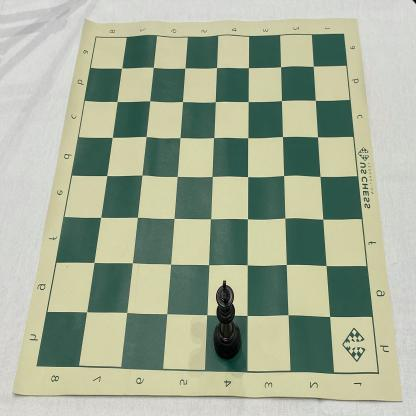black-king: (213, 279, 242, 361)
